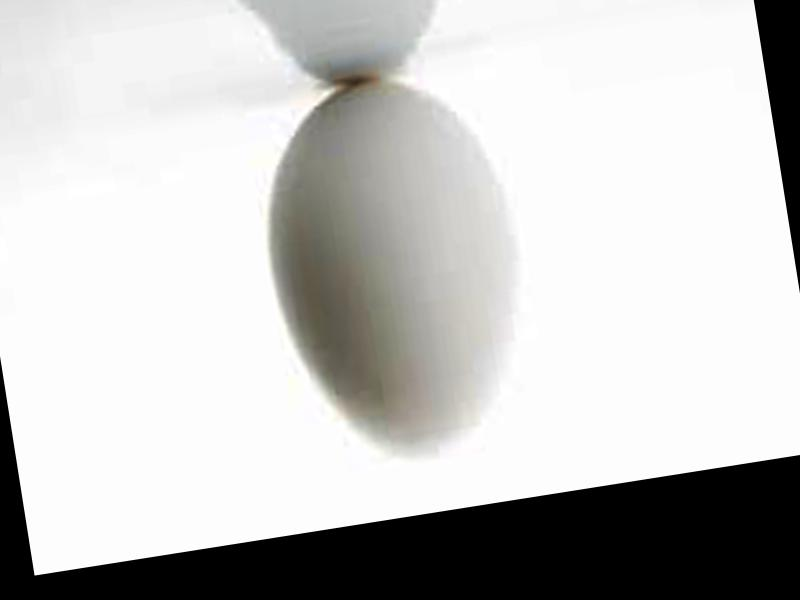Eggs: (245, 63, 537, 472)
